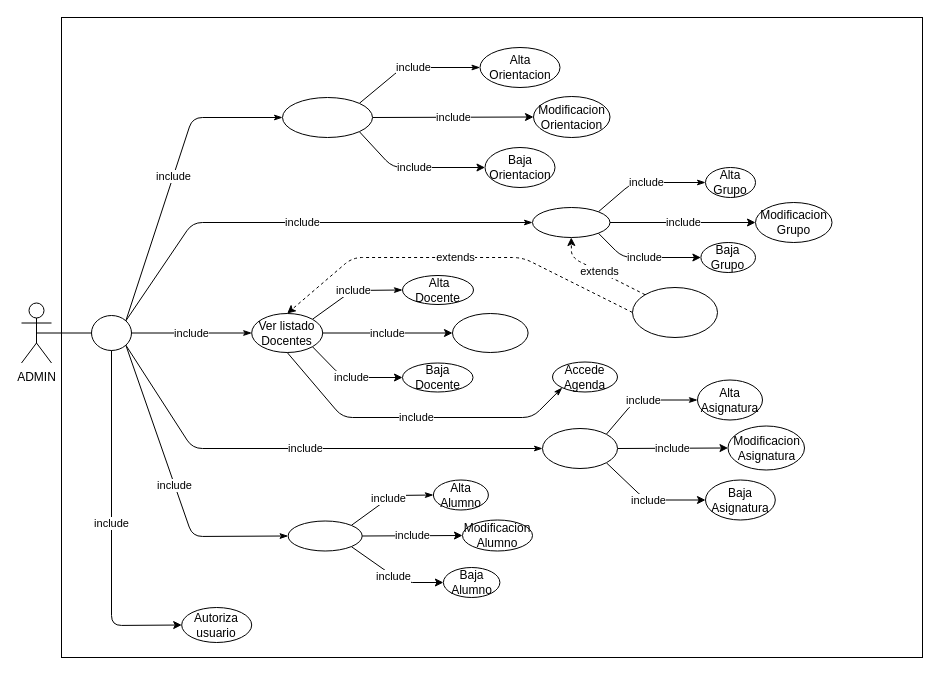
Some shapes in this 940 by 675 pixel diagram are drawn without their labels. Here are the shapes that lost their labels. From the top down, the box of each, then its label:
(282, 96, 372, 138): Ver listado Orientaciones
(532, 206, 610, 238): Ver listado Grupos
(90, 314, 132, 350): Login
(452, 312, 528, 352): Modificacion Docente
(632, 286, 718, 338): Accede Historial de respuestas
(542, 428, 618, 468): Ver listado Asignaturas
(287, 520, 362, 551): Ver listado Alumnos
